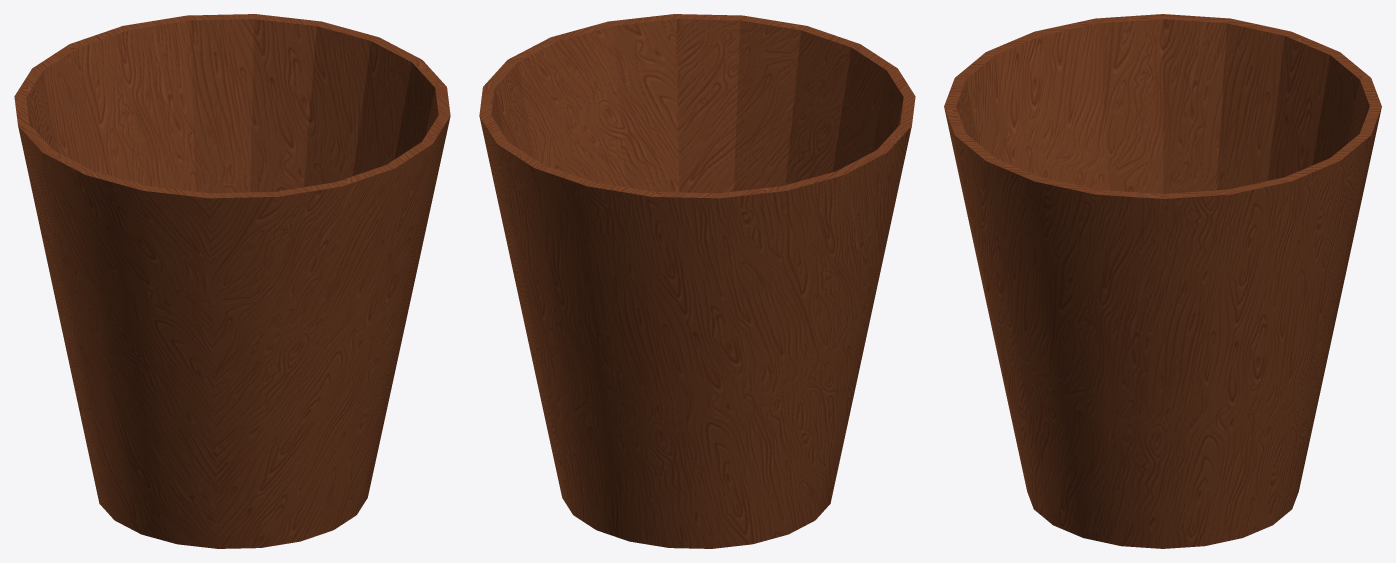
The model's file is FRM0510017.fbx.
The picture shows the model from 3 angles, left to right: view 1: azimuth 30°, elevation 25°; view 2: azimuth 150°, elevation 25°; view 3: azimuth 270°, elevation 25°; orthographic projection.
Parts seen in each view (by area): view 1: smFRM0510017; view 2: smFRM0510017; view 3: smFRM0510017.
Boxes of the visible parts, x1=… form: smFRM0510017: x1=14, y1=14, x2=450, y2=548; smFRM0510017: x1=479, y1=14, x2=915, y2=548; smFRM0510017: x1=944, y1=14, x2=1381, y2=548.
Bounding box in the file's own units: 68.61 × 66.56 × 68.61.
Materials: 1 (1 with a texture image).
